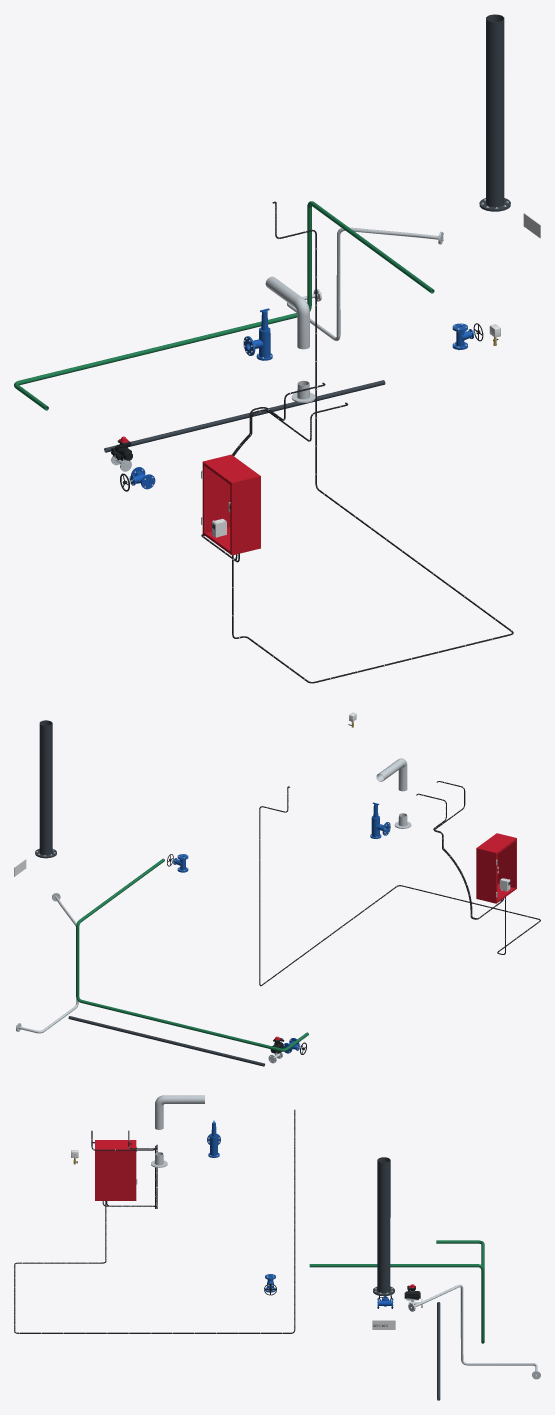
File: s4000-6-DHZVH4oM.glb
3 renders of one model, top to bottom at view 1: azimuth 30°, elevation 25°; view 2: azimuth 150°, elevation 25°; view 3: azimuth 270°, elevation 25°, orthographic. The views are drawn at different scales.
Parts seen in each view (by area): view 1: control_cabinet / control_cabinet_0.npz, bdv_vent / dark, to_economizer / green, mod_eco_drive_cable / black, bottom_discharge / dark, trap_gap_to_bdv / steel, steam_rise / steel, safety_1 / blue; view 2: control_cabinet / control_cabinet_0.npz, bdv_vent / dark, to_economizer / green, mod_eco_drive_cable / black, bottom_discharge / dark, steam_rise / steel, trap_gap_to_bdv / steel; view 3: control_cabinet / control_cabinet_0.npz, bdv_vent / dark, mod_eco_drive_cable / black, to_economizer / green, trap_gap_to_bdv / steel, steam_rise / steel, bottom_discharge / dark.
Boxes of the visible parts, <box> form: control_cabinet / control_cabinet_0.npz: <box>201,454,260,555</box>; bdv_vent / dark: <box>479,14,510,211</box>; to_economizer / green: <box>14,201,434,410</box>; mod_eco_drive_cable / black: <box>232,201,513,683</box>; bottom_discharge / dark: <box>104,380,385,452</box>; trap_gap_to_bdv / steel: <box>287,227,443,340</box>; steam_rise / steel: <box>265,276,309,349</box>; safety_1 / blue: <box>243,308,272,360</box>; control_cabinet / control_cabinet_0.npz: <box>476,833,516,903</box>; bdv_vent / dark: <box>35,720,56,858</box>; to_economizer / green: <box>76,858,308,1051</box>; mod_eco_drive_cable / black: <box>259,786,540,986</box>; bottom_discharge / dark: <box>68,1016,264,1066</box>; steam_rise / steel: <box>376,758,407,791</box>; trap_gap_to_bdv / steel: <box>16,893,78,1033</box>; control_cabinet / control_cabinet_0.npz: <box>95,1140,137,1200</box>; bdv_vent / dark: <box>373,1157,394,1296</box>; mod_eco_drive_cable / black: <box>14,1109,295,1333</box>; to_economizer / green: <box>309,1240,484,1343</box>; trap_gap_to_bdv / steel: <box>408,1284,540,1379</box>; steam_rise / steel: <box>155,1095,204,1129</box>; bottom_discharge / dark: <box>437,1302,440,1400</box>.
Bounding box in the file's own units: 5.3 × 3.81 × 6.74.
